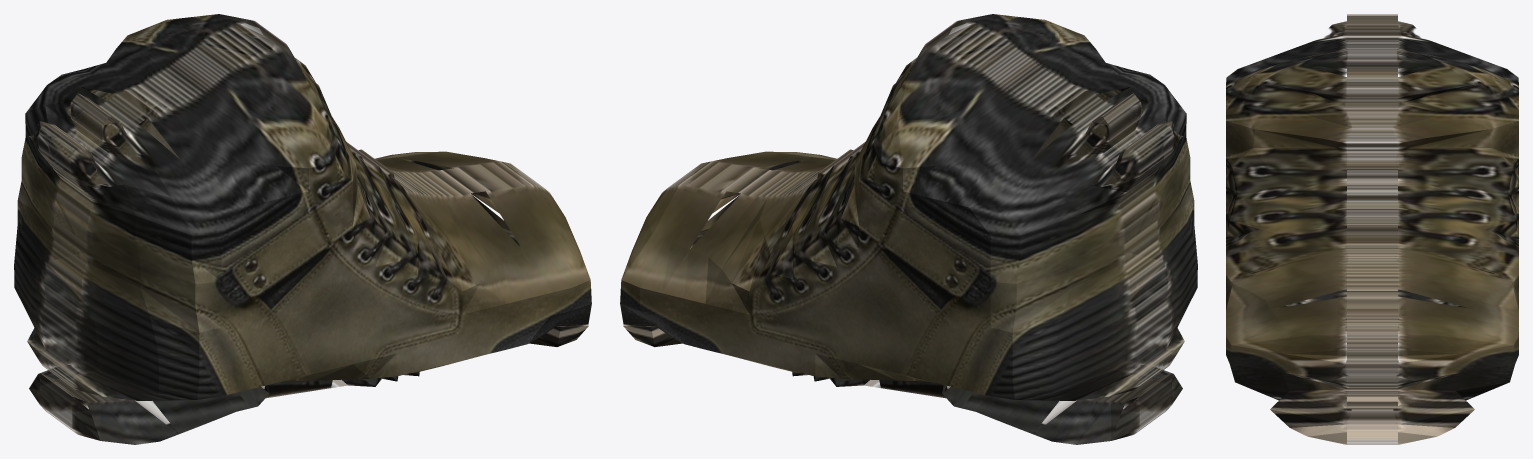
File: sw-motech-circuit-riding-boot-119.glb
3 renders of one model, left to right at view 1: azimuth 30°, elevation 25°; view 2: azimuth 150°, elevation 25°; view 3: azimuth 270°, elevation 25°, orthographic. The views are drawn at different scales.
Visible parts, largest first — view 1: world; view 2: world; view 3: world.
Boxes of the visible parts, bbox=[...] form: world: bbox=[14, 14, 591, 444]; world: bbox=[620, 14, 1197, 444]; world: bbox=[1226, 14, 1518, 444].
Size of the model in its own units: 1 by 0.6744 by 0.62.
Materials: 1 (1 with a texture image).
